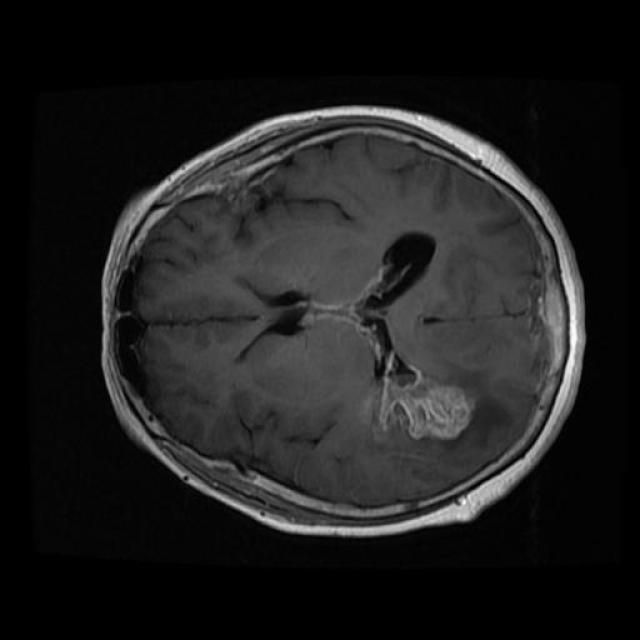Glioma: (376, 367, 474, 439)
